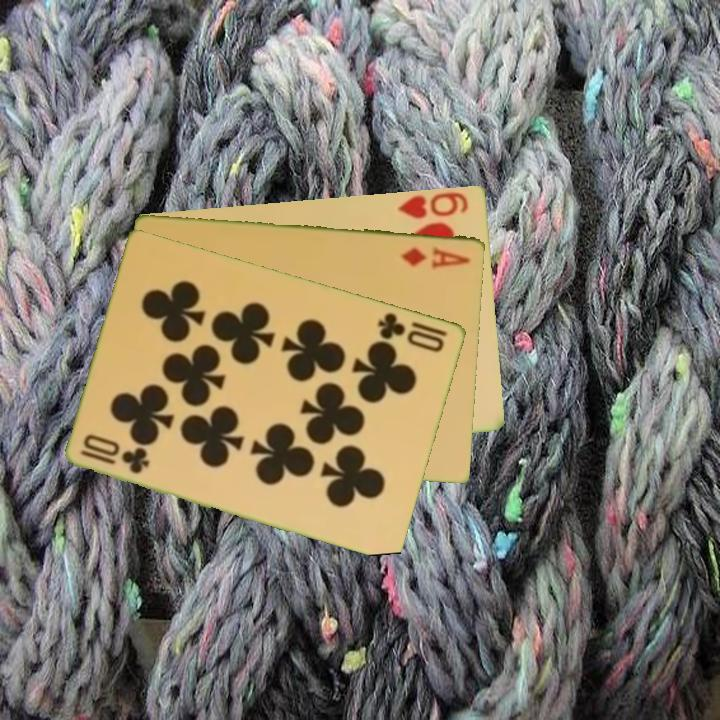10c: (374, 308, 451, 355), (77, 446, 153, 477)
6h: (395, 188, 472, 221)
Ad: (397, 242, 473, 271)
